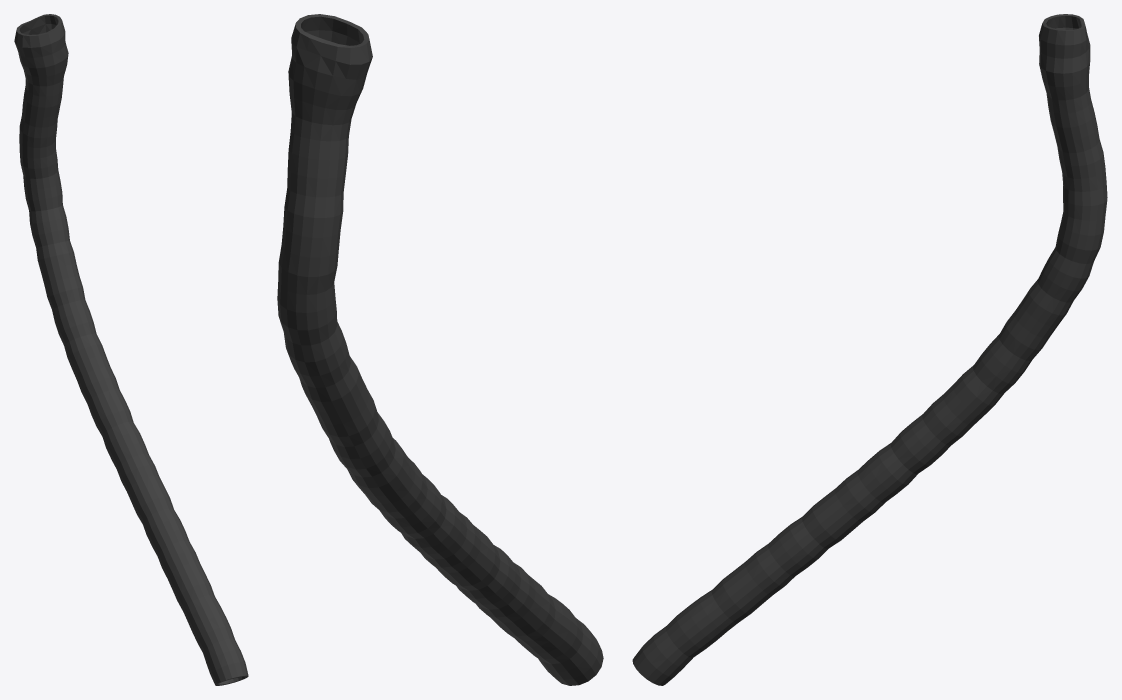
Rendered from trachea_LOW.glb.
3 views of the same model, side by side, from view 1: azimuth 30°, elevation 25°; view 2: azimuth 150°, elevation 25°; view 3: azimuth 270°, elevation 25° (orthographic). The views are drawn at different scales.
Parts seen in each view (by area): view 1: trachea_LOW; view 2: trachea_LOW; view 3: trachea_LOW.
Boxes of the visible parts, bbox=[...] form: trachea_LOW: bbox=[14, 14, 248, 685]; trachea_LOW: bbox=[277, 14, 603, 685]; trachea_LOW: bbox=[632, 14, 1107, 685].
Size of the model in its own units: 0.00201 by 0.0182 by 0.012.
1 material, 1 textured.
